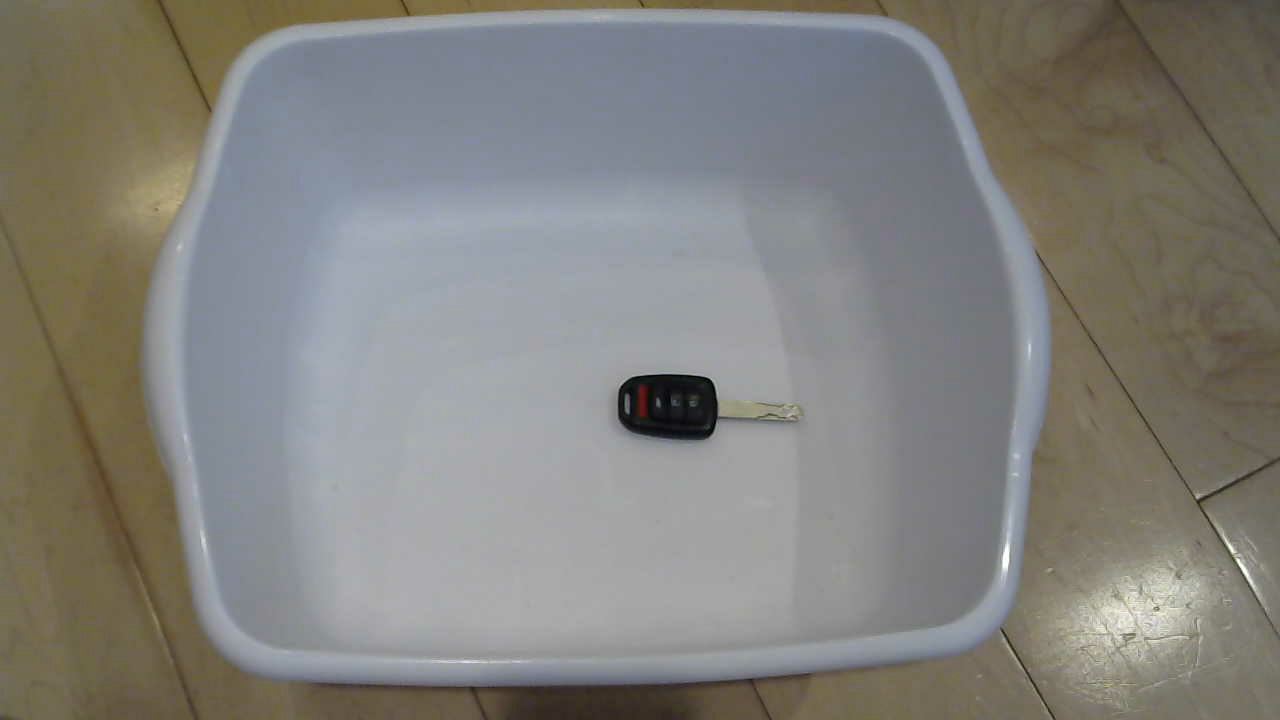key: (610, 366, 816, 455)
